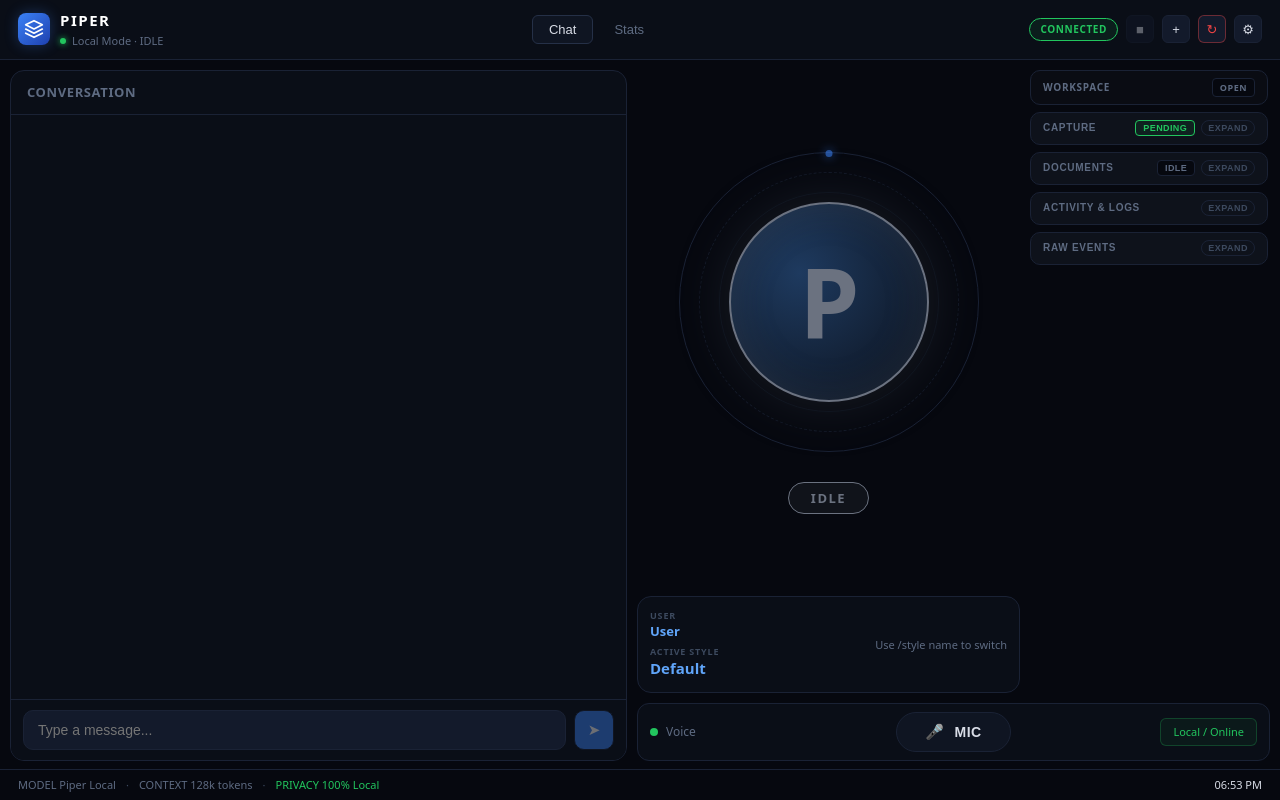
it: App view switching › renders Capture card with live screen status in right rail
Click the button with class "rail-card-header" showing "Capture Pending Expand": point(1149, 128) [1031,113,1267,144]
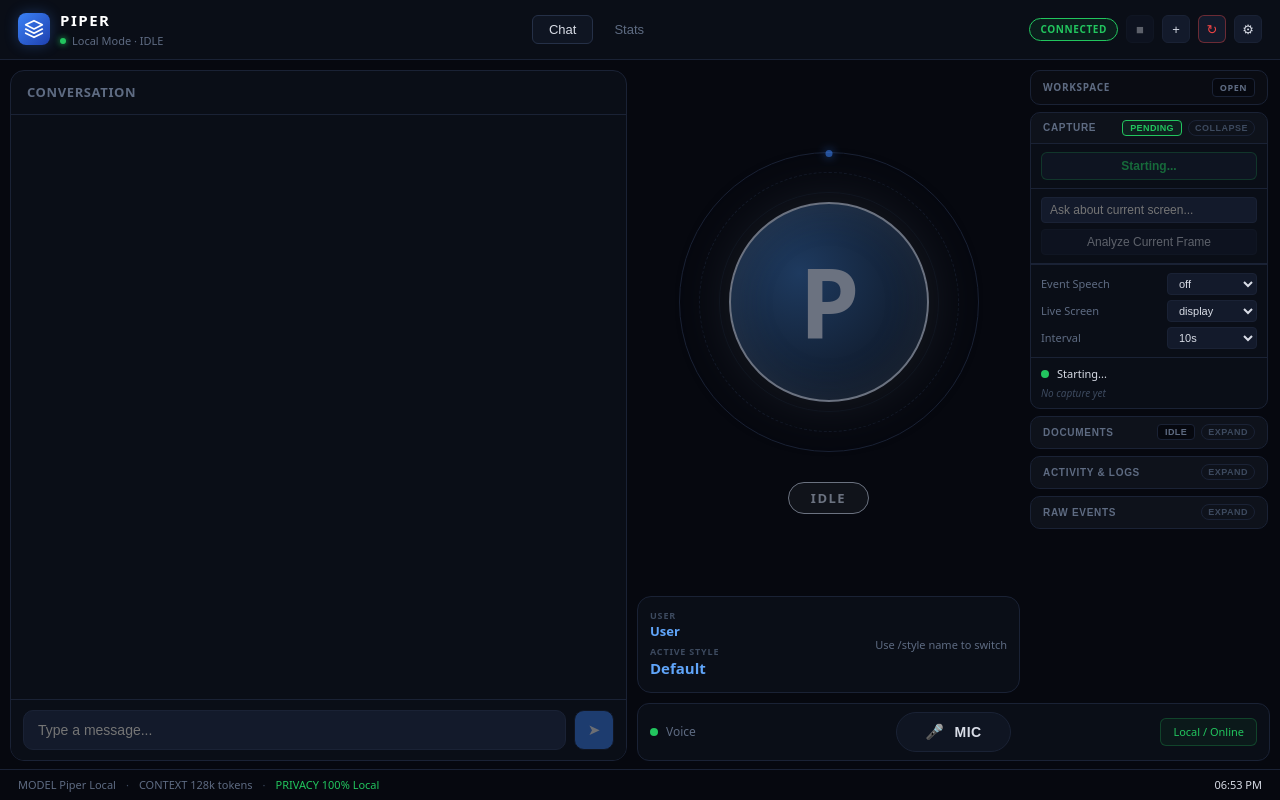
Expected: the text "Starting..." is shown, [1041,152,1257,180]
